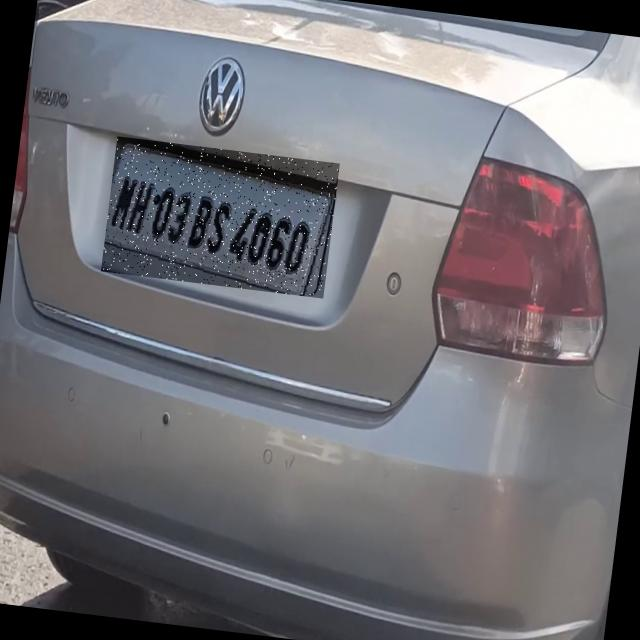Plate: (102, 137, 341, 299)
